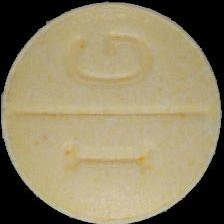76237-160: (0, 0, 224, 224)
